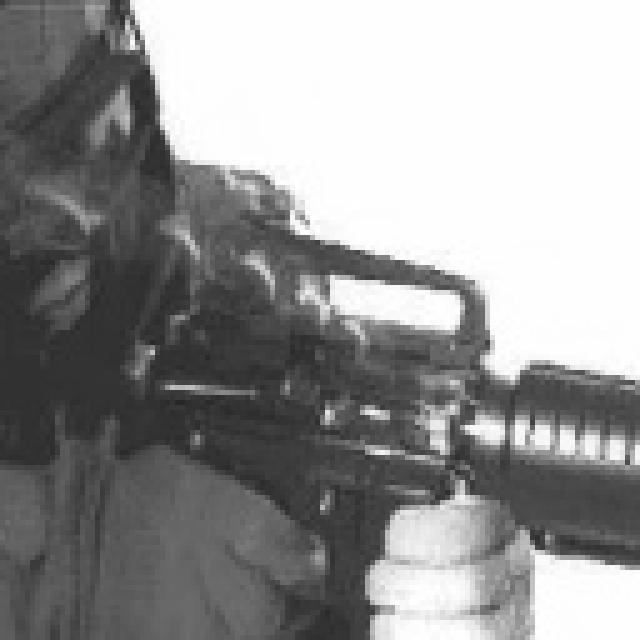Rifle: (0, 153, 640, 614)
